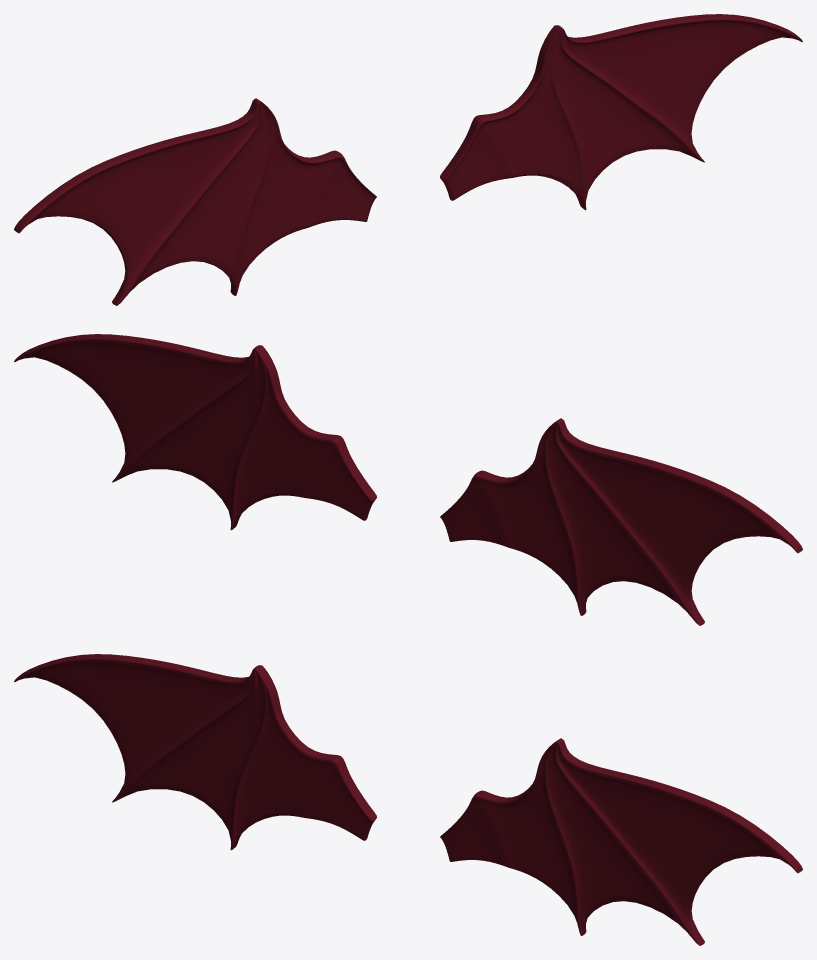
File: kanat_yarasa.glb
3 renders of one model, top to bottom at view 1: azimuth 30°, elevation 25°; view 2: azimuth 150°, elevation 25°; view 3: azimuth 330°, elevation 25°, orthographic.
Visible parts, largest first — view 1: sol, sag; view 2: sol, sag; view 3: sag, sol.
Boxes of the visible parts, x1,y1,x2,y2 form: sol: (14,98,376,305); sag: (440,14,802,210); sol: (440,418,802,625); sag: (14,334,376,530); sag: (440,738,802,945); sol: (14,654,376,850).
Bounding box in the file's own units: 1.8 × 0.415 × 0.0302.
